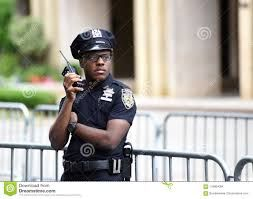uniform: (52, 80, 132, 175)
